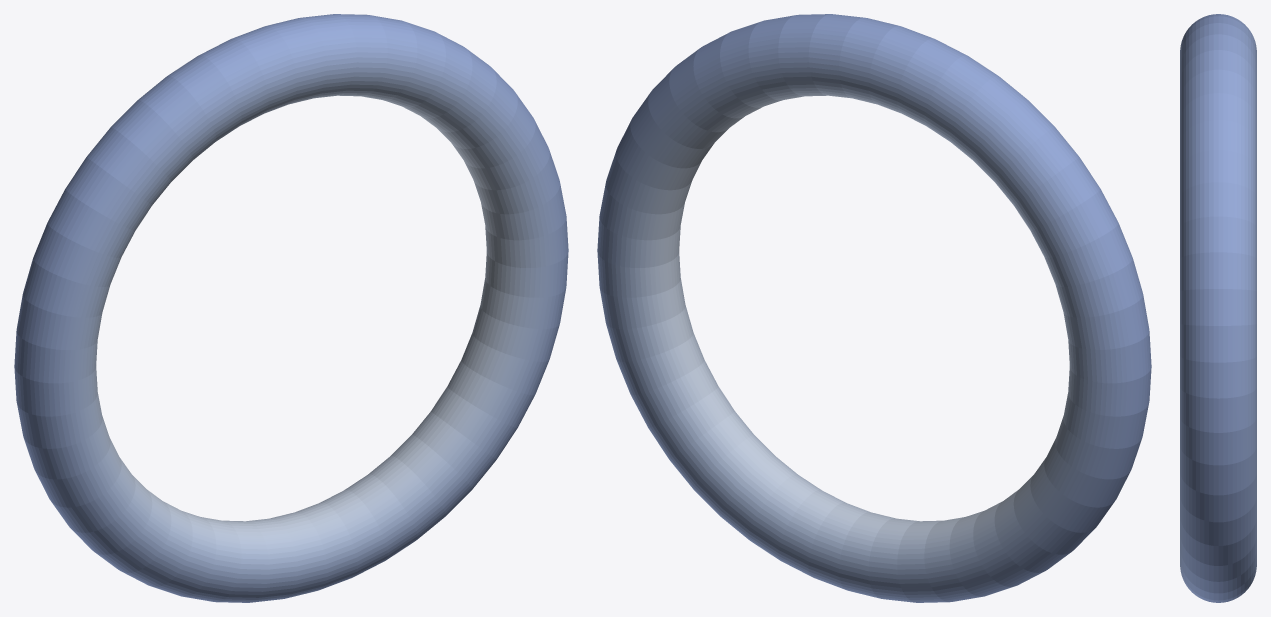
3 views of the same model, side by side, from view 1: azimuth 30°, elevation 25°; view 2: azimuth 150°, elevation 25°; view 3: azimuth 270°, elevation 25° (orthographic). The views are drawn at different scales.
Parts seen in each view (by area): view 1: world; view 2: world; view 3: world.
Part boxes in pixels (box(x1,y1,x2,y2)): world: box(14, 14, 568, 602); world: box(597, 14, 1151, 602); world: box(1180, 14, 1256, 602).
Bounding box in the file's own units: 27.6 × 27.55 × 3.59.
